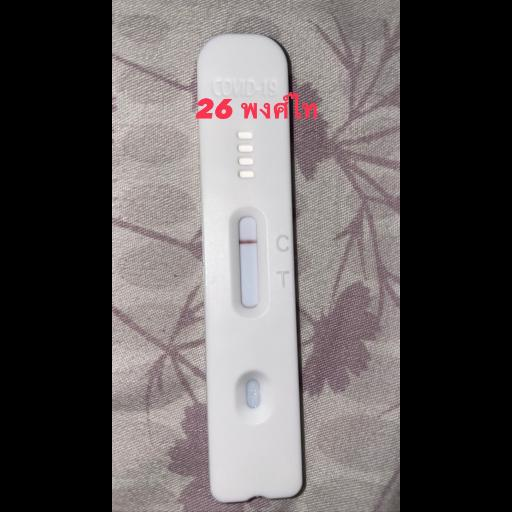Neg: (194, 34, 308, 502)
